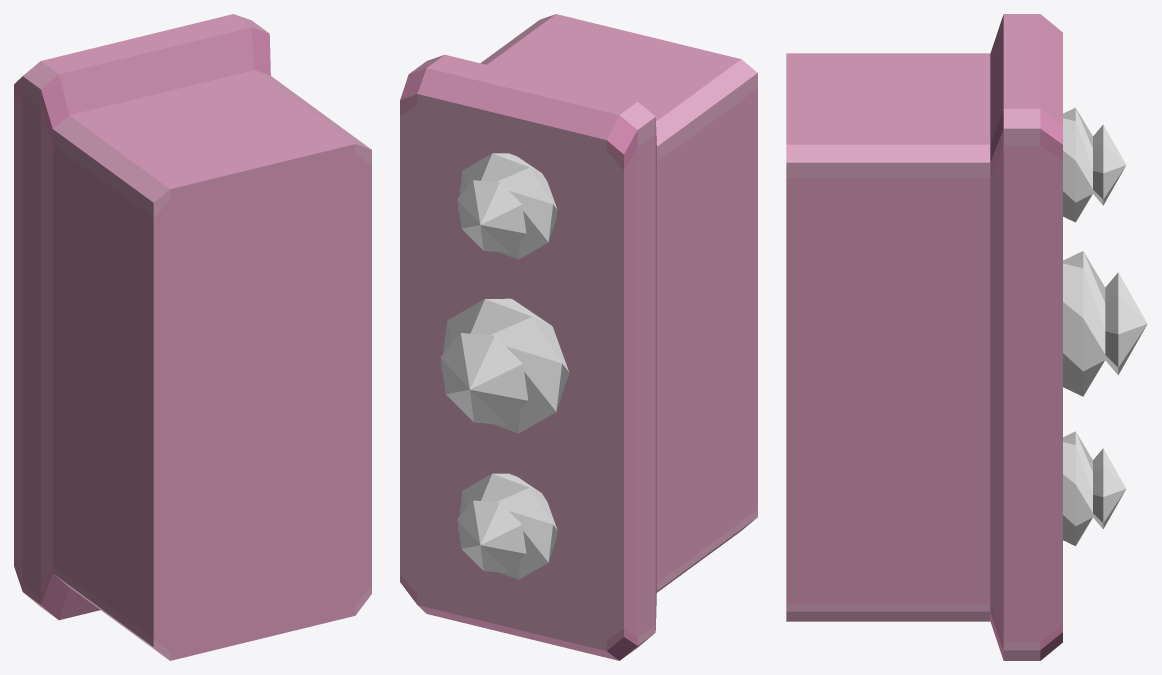
File: pink_cake_1.fbx
The picture shows the model from 3 angles, left to right: view 1: azimuth 30°, elevation 25°; view 2: azimuth 150°, elevation 25°; view 3: azimuth 270°, elevation 25°; orthographic projection.
Parts seen in each view (by area): view 1: pink_cake_1; view 2: pink_cake_1; view 3: pink_cake_1.
Part boxes in pixels (box(x1,y1,x2,y2)): pink_cake_1: box(14, 14, 371, 660); pink_cake_1: box(400, 14, 757, 660); pink_cake_1: box(786, 14, 1147, 660).
Size of the model in its own units: 228 by 521 by 309.
